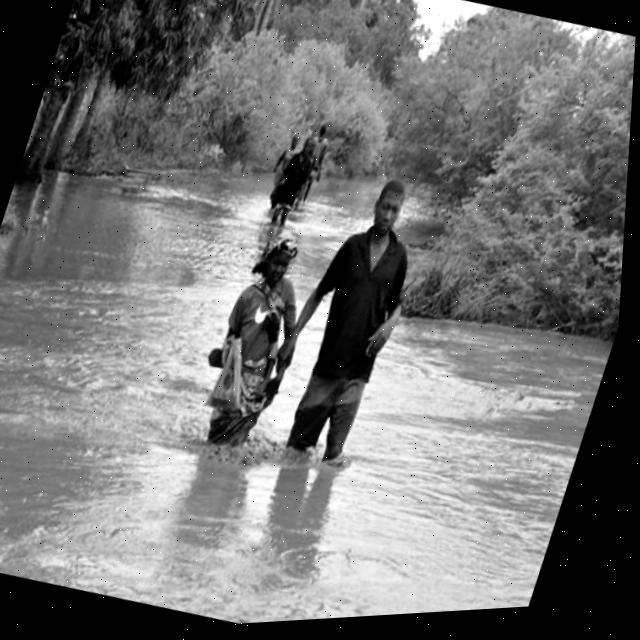civilian: (241, 159, 457, 492), (166, 207, 343, 478), (261, 131, 324, 244), (289, 118, 342, 197), (264, 122, 313, 193)
